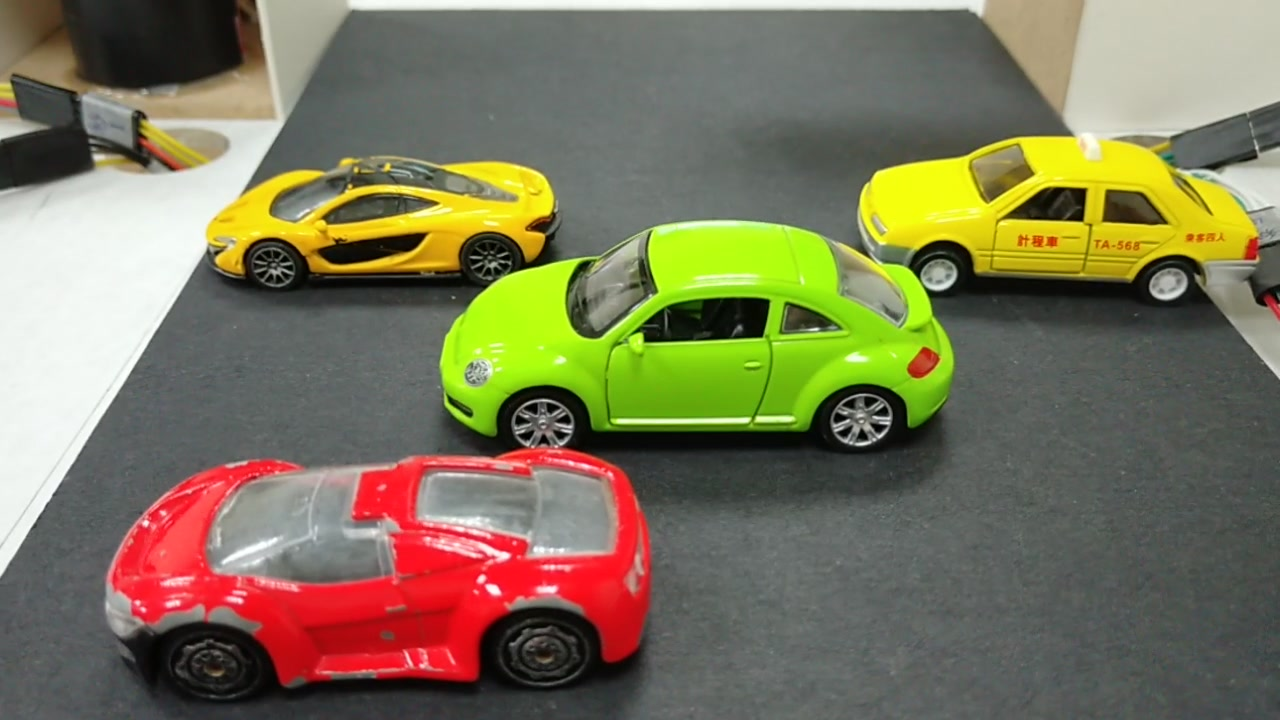car: (98, 455, 658, 683), (440, 232, 953, 446), (849, 142, 1265, 322), (214, 166, 561, 266)
